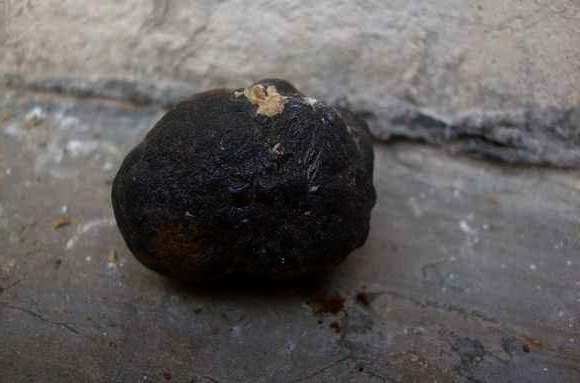halobolite: (104, 74, 377, 294)
